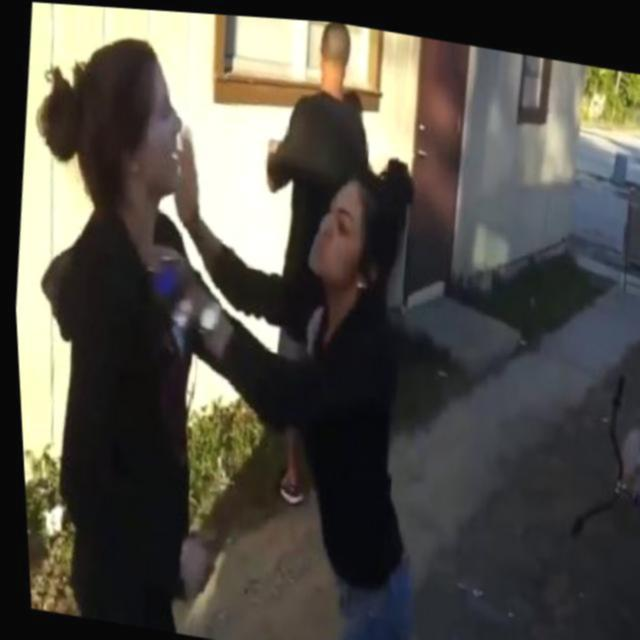fight: (1, 21, 464, 640)
